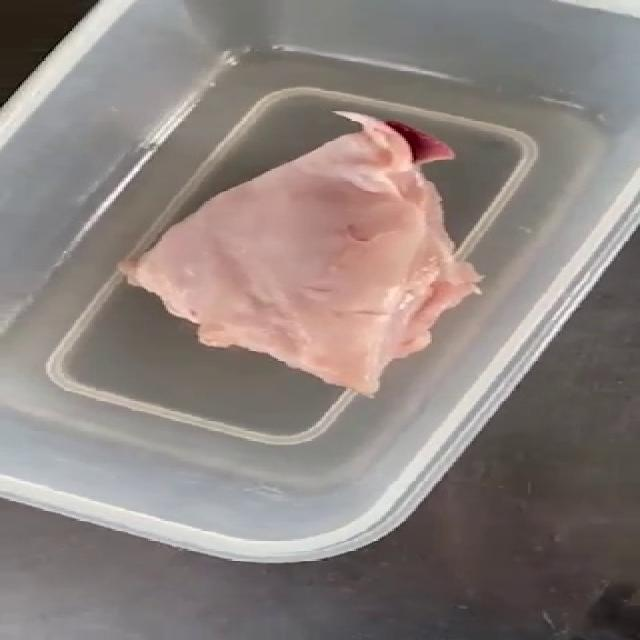chicken: (126, 119, 484, 390)
